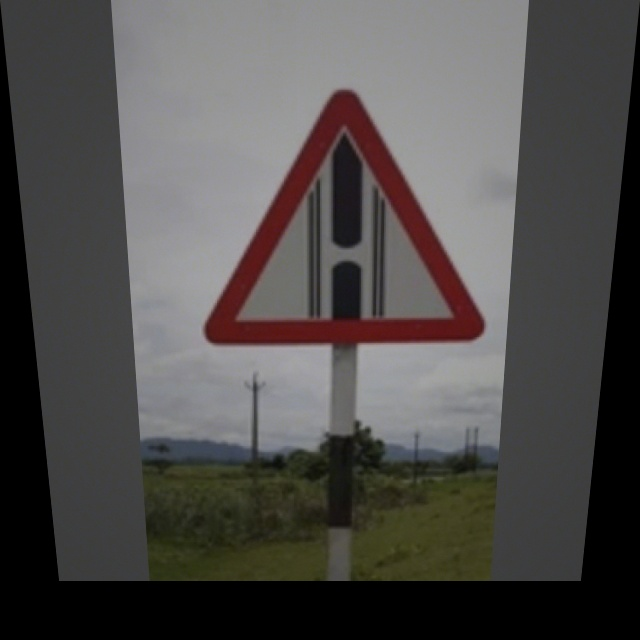Gap_in_Median: (194, 70, 497, 343)
